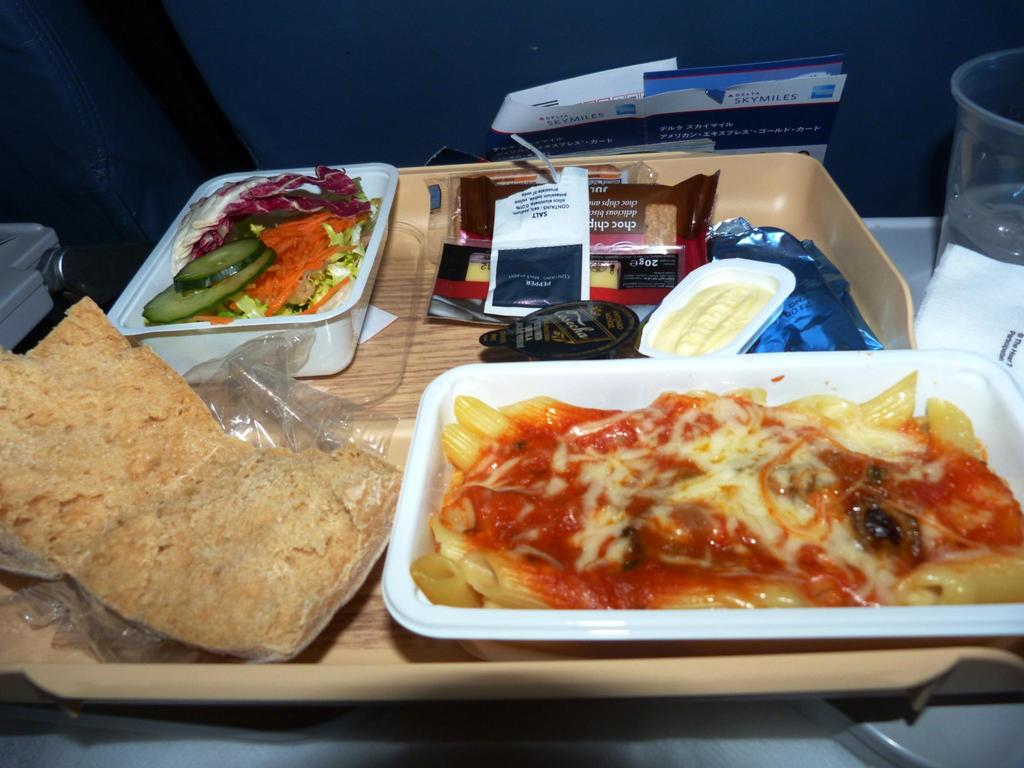salad: (141, 166, 382, 345)
